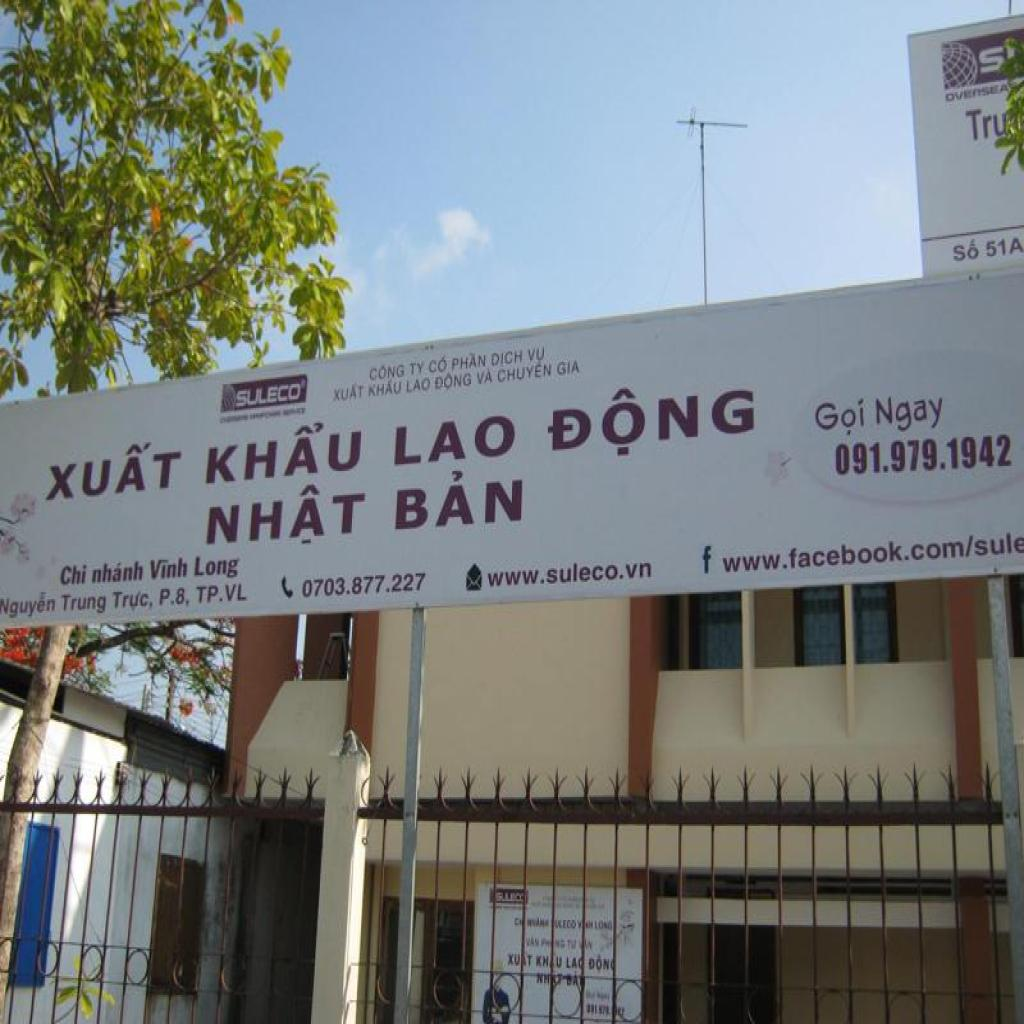text: (548, 372, 758, 466), (720, 529, 1024, 575), (204, 480, 368, 550), (205, 414, 362, 484), (44, 437, 186, 503), (394, 466, 525, 531), (833, 432, 1015, 478), (393, 411, 518, 468), (488, 554, 652, 590), (301, 572, 427, 600), (874, 389, 951, 434), (814, 392, 865, 444), (236, 382, 304, 412), (0, 589, 58, 621), (965, 104, 1010, 145), (945, 80, 1010, 106), (91, 558, 146, 585), (194, 582, 251, 606), (194, 553, 240, 582), (498, 362, 553, 386), (60, 592, 109, 618), (982, 232, 1024, 261), (148, 555, 190, 580), (112, 589, 154, 614), (947, 237, 983, 265), (976, 44, 1008, 75), (450, 350, 488, 374), (434, 368, 475, 390), (333, 380, 366, 404), (60, 562, 91, 587), (156, 586, 191, 608), (368, 362, 406, 382), (368, 380, 404, 400), (491, 348, 525, 369), (589, 954, 612, 975), (557, 358, 581, 378), (428, 353, 450, 374), (406, 377, 432, 394), (701, 543, 713, 575), (476, 367, 496, 386), (528, 346, 546, 366), (594, 918, 614, 932), (534, 954, 552, 969), (566, 956, 584, 971), (410, 360, 425, 377), (507, 952, 521, 966), (566, 938, 578, 950), (526, 954, 535, 968), (556, 956, 563, 971), (513, 916, 520, 928)
